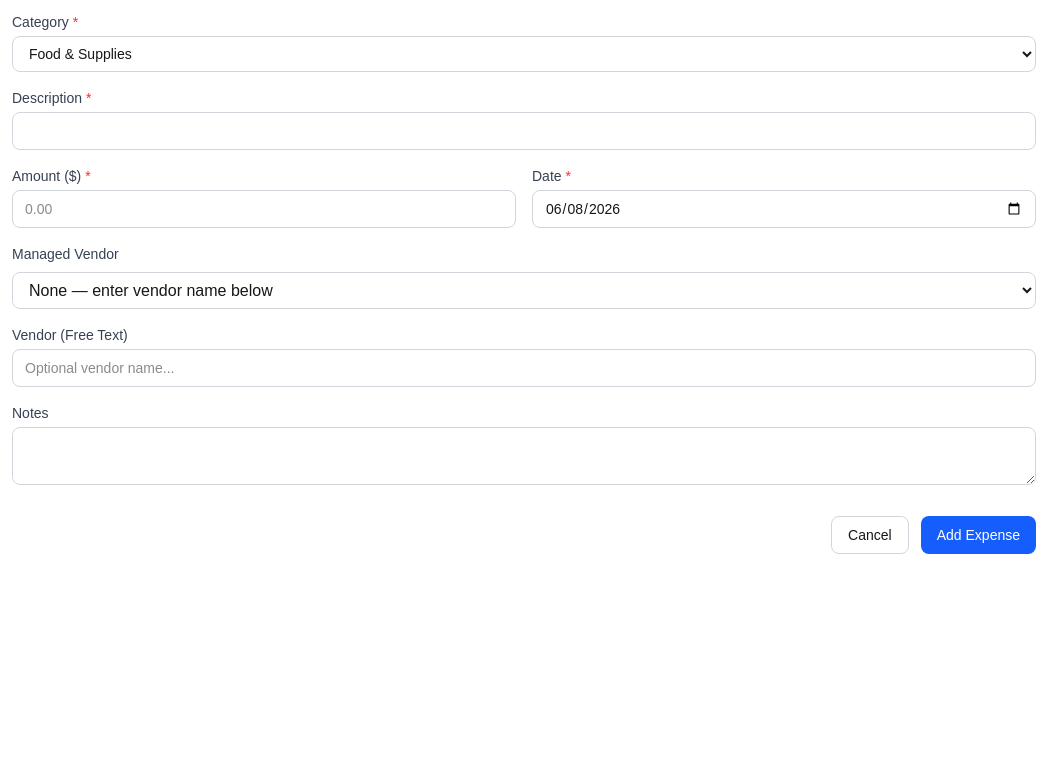
it: ExpenseForm › validation › shows error when description is empty on submit
The width and height of the screenshot is (1048, 780).
Type "100.00" into the field labelled "Amount ($) *" at (264, 209), box left=12, top=190, right=516, bottom=228
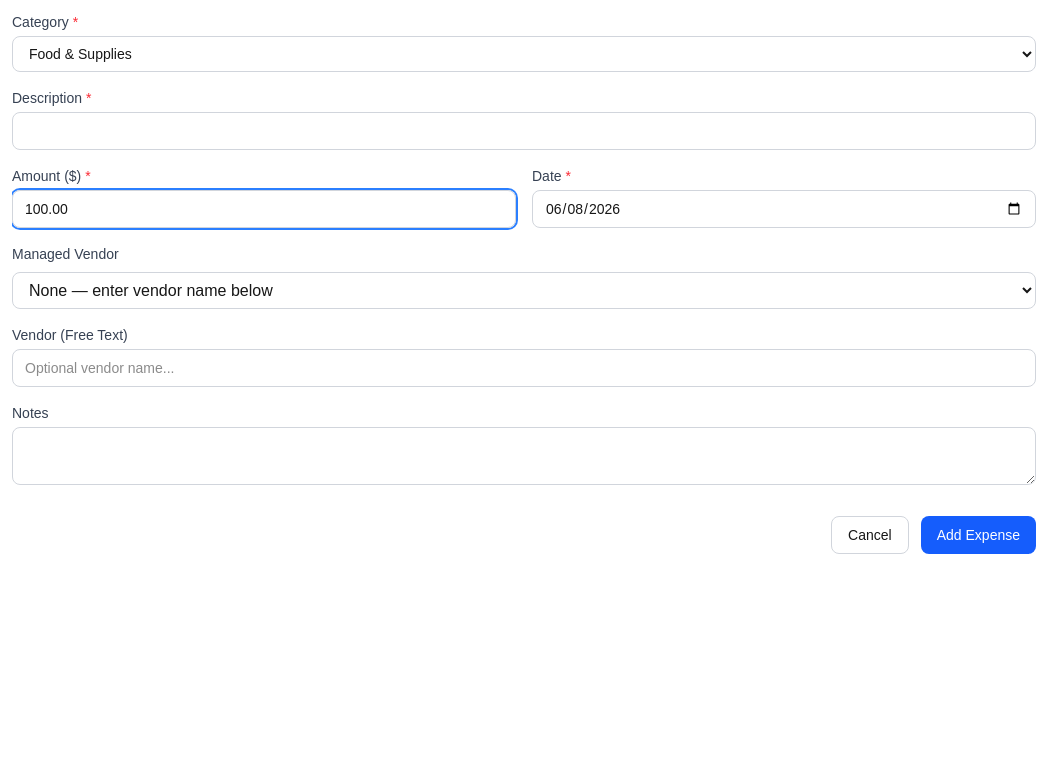
Click the button "Add Expense" at (978, 535), box left=921, top=516, right=1036, bottom=554
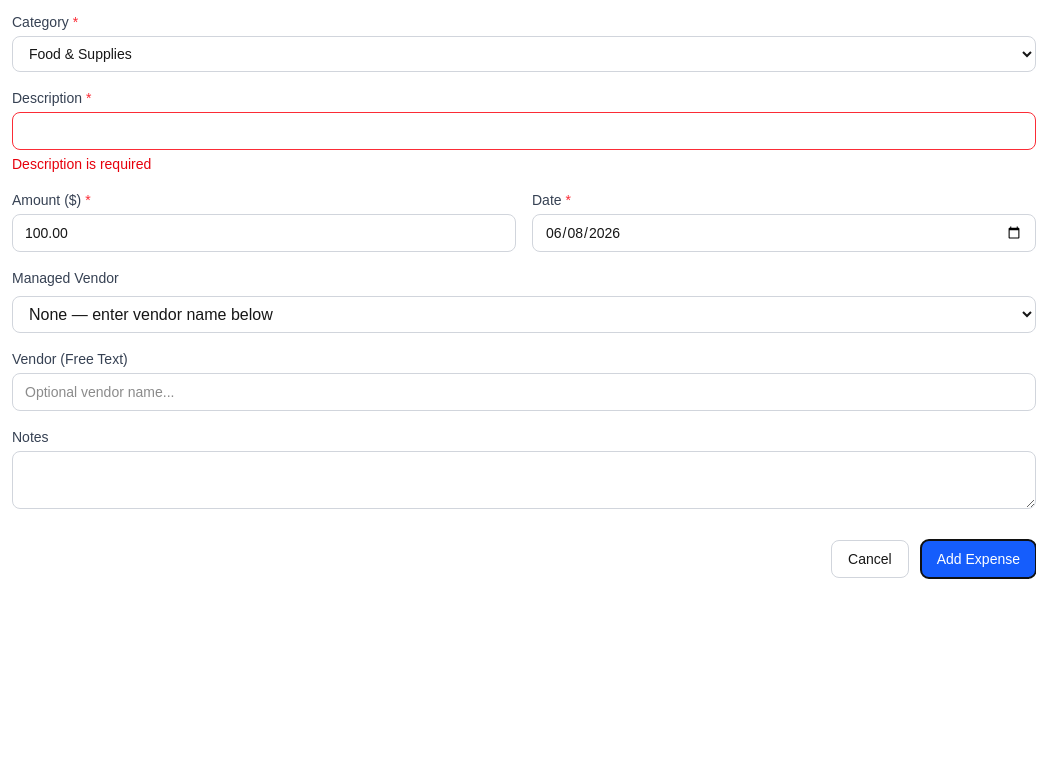
expect the text "Description is required" is shown: met, box left=12, top=156, right=151, bottom=172
